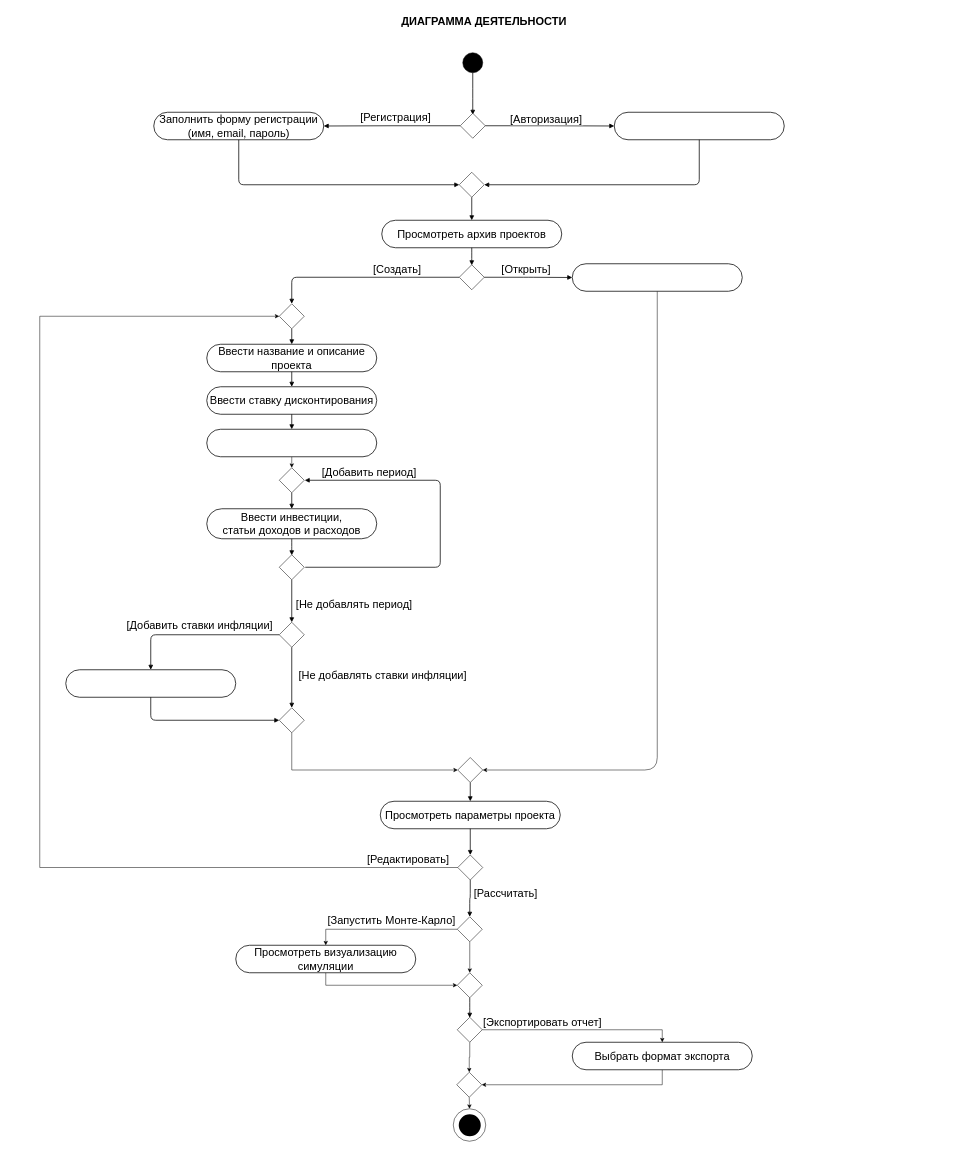
The diagram is 967 pixels wide and 1150 high, and some of its shapes have lost their labels. The shapes that lost their labels are listed below. From the top down, each one's centre as x and y in pixels, then its label:
the point at 699,126: Заполнить форму входа (email, пароль)
the point at 657,277: Открыть существующий проект
the point at 291,443: Ввести ставку налога на прибыль
the point at 150,683: Ввести ставки инфляции по годам
